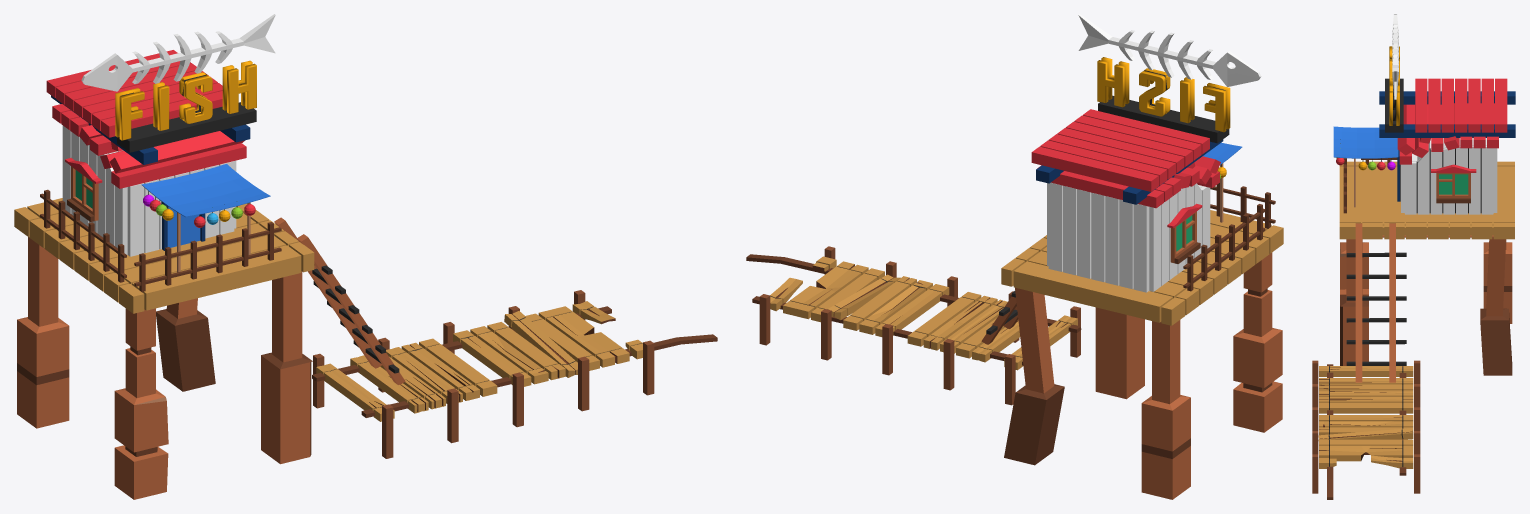
File: House_02.glb
3 views of the same model, side by side, from view 1: azimuth 30°, elevation 25°; view 2: azimuth 150°, elevation 25°; view 3: azimuth 270°, elevation 25° (orthographic). The views are drawn at different scales.
Parts seen in each view (by area): view 1: Building 1; view 2: Building 1; view 3: Building 1.
Boxes of the visible parts, x1,y1,x2,y2 form: Building 1: (14,14,717,499); Building 1: (746,14,1283,499); Building 1: (1312,14,1515,499).
Bounding box in the file's own units: 51.72 × 35.25 × 21.02.
1 material, 1 textured.
